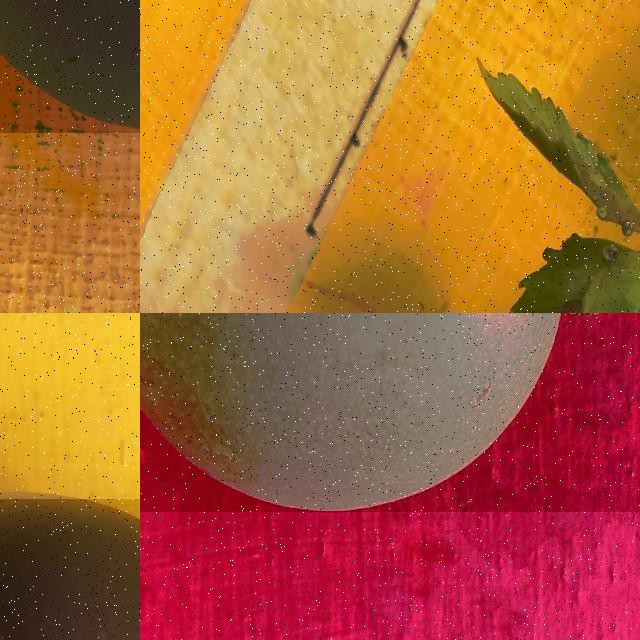Estado-3: (140, 313, 582, 512)
Estado-6: (0, 499, 140, 640)
